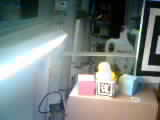duck: (87, 60, 118, 79)
